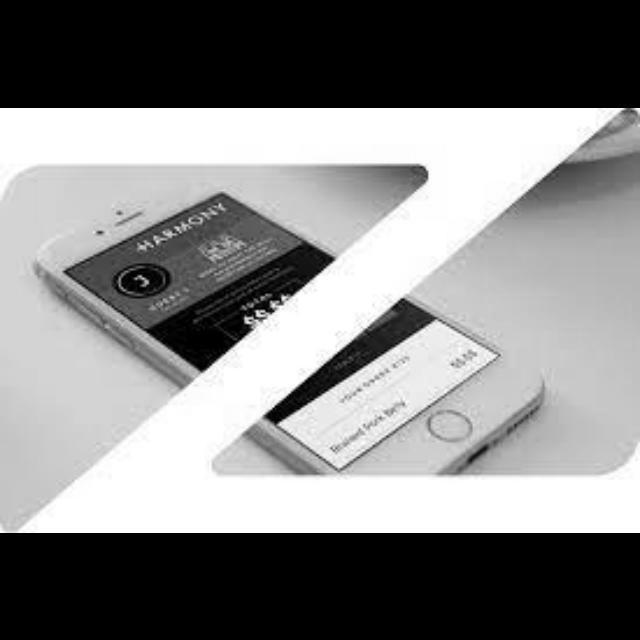fake: (40, 146, 572, 532)
